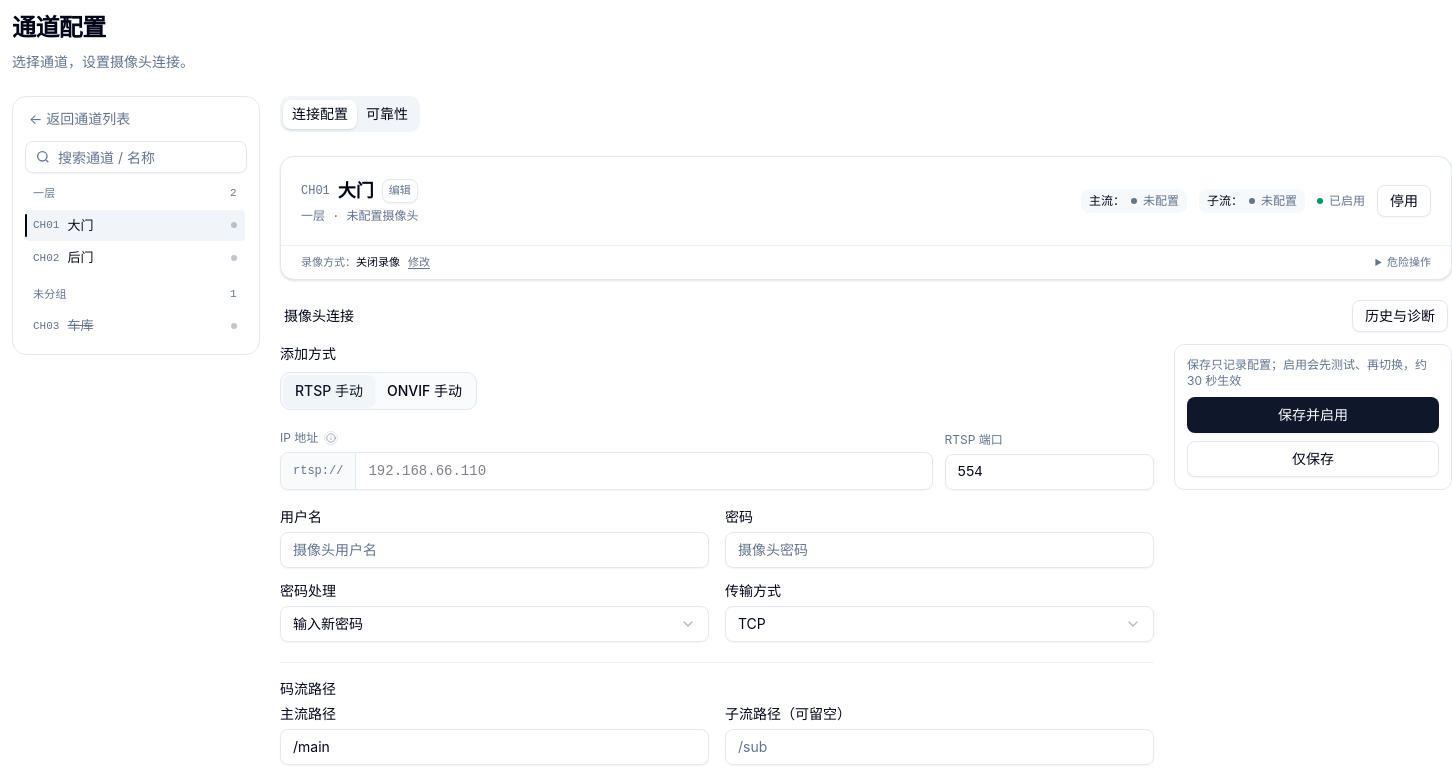
Test: does not overwrite a concurrently changed channel after connection test
In the field labelled "IP 地址": (644, 470) [356,452,932,488], type "192.168.33.20"
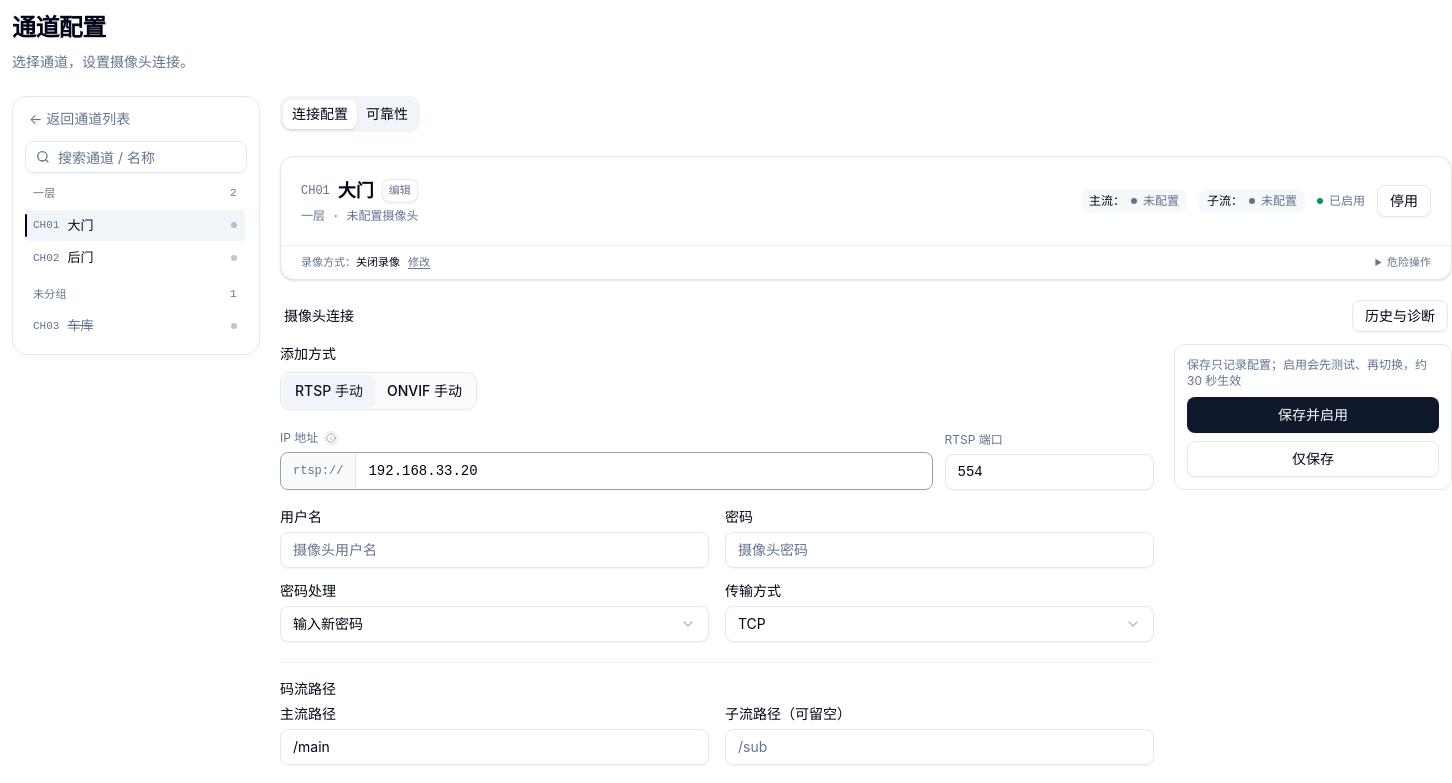
In the password field labelled "密码": (940, 550) [725,532,1154,568], type "isolated-fixture-password"
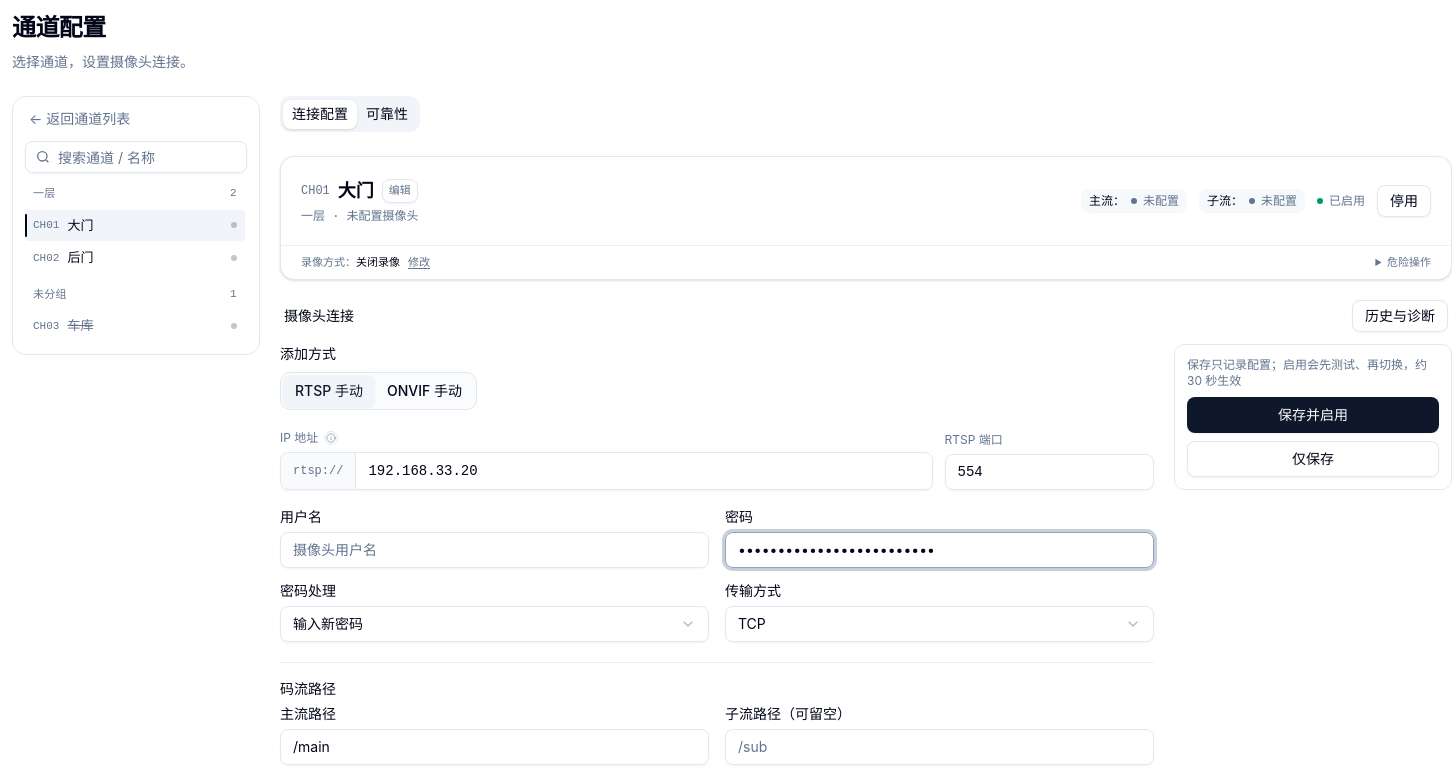
Click the button "保存并启用": (1313, 414) [1187,396,1439,432]
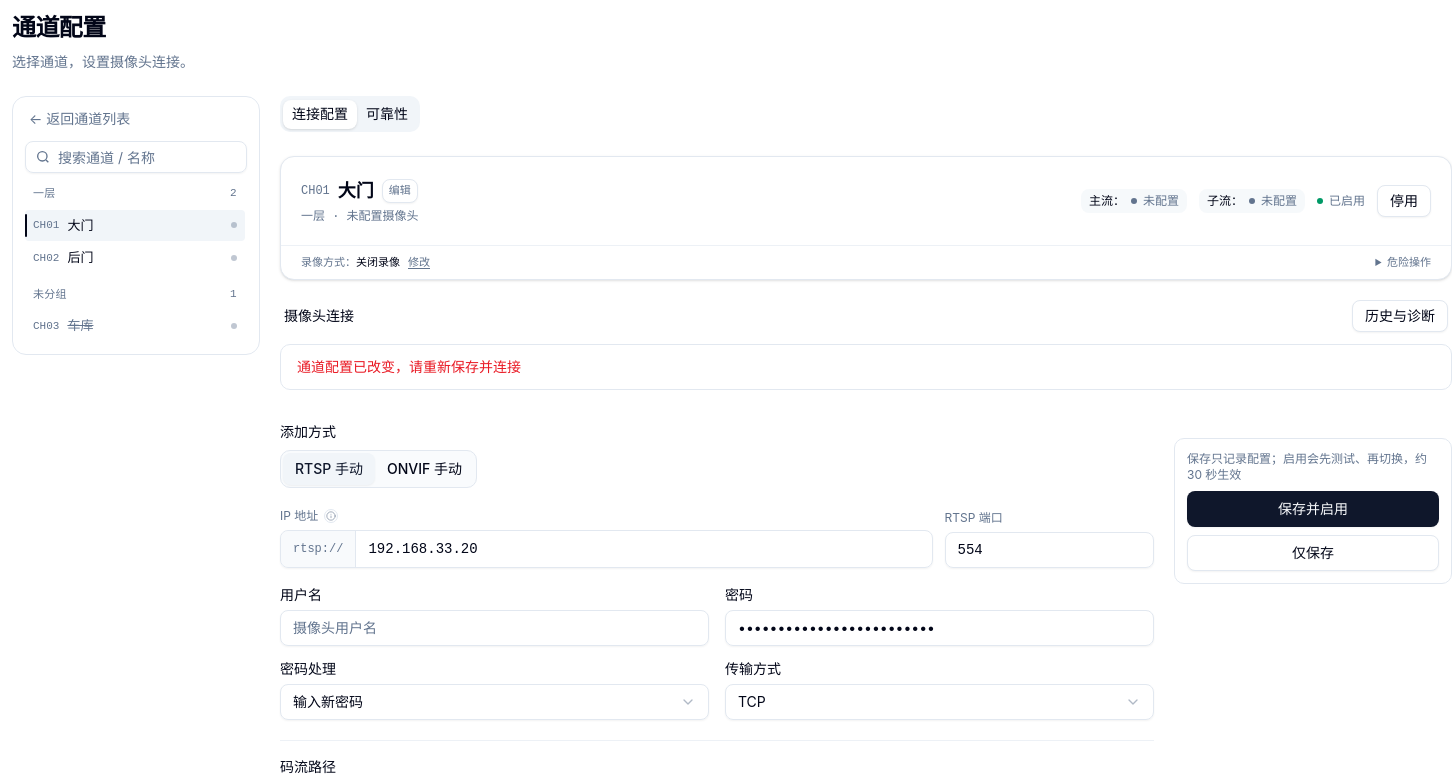
Check: the message shows "通道配置已改变", box [297,358,521,374]
